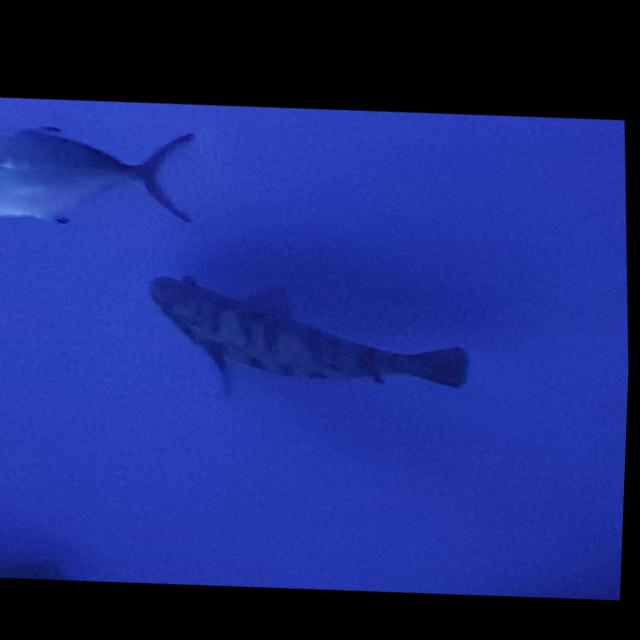Groupers: (140, 255, 476, 422)
